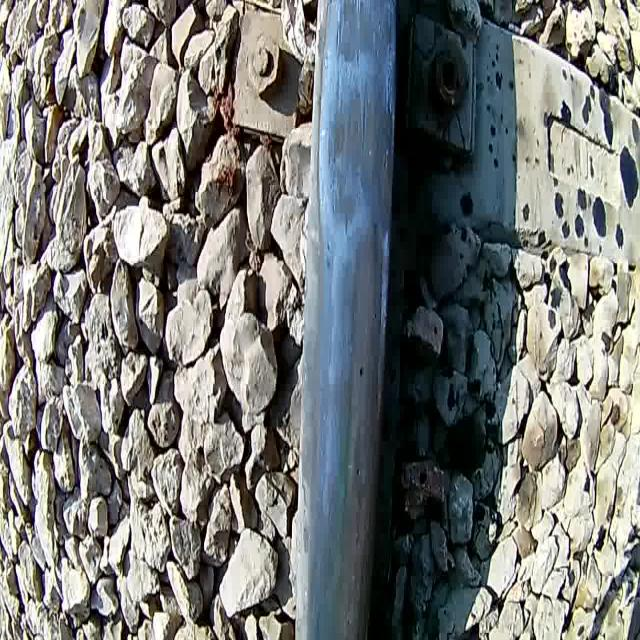Squats: (328, 221, 390, 640), (326, 64, 392, 222), (334, 0, 397, 65)
